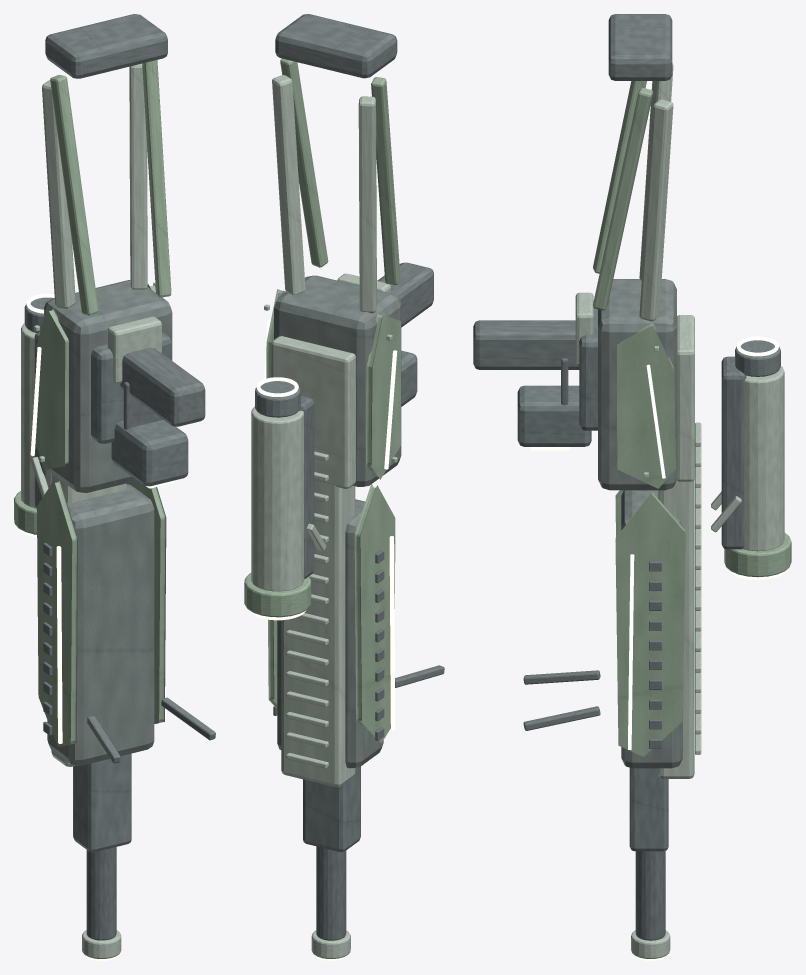
The model's file is aether-l7-glacier.glb.
3 views of the same model, side by side, from view 1: azimuth 30°, elevation 25°; view 2: azimuth 150°, elevation 25°; view 3: azimuth 270°, elevation 25° (orthographic).
Visible parts, largest first — view 1: L7 / long matte handguard, 01 / central monocoque, L7 / split shell side -1, L7 / fixed stock cushion, L7 / tip assembly, 06 / sculpted receiver cheek-1, 04 / pistol grip, L7 / hollow stock diagonal -1, L7 / lower energy capsule, L7 / hollow stock outer rail 1, L7 / hollow stock outer rail -1, L7 / hollow stock diagonal 1 (+15 smaller); view 2: L7 / elongated chassis spine, L7 / long illuminated optic, 01 / central monocoque, L7 / split shell side -1, 02 / receiver crown, L7 / fixed stock cushion, L7 / hollow stock outer rail 1, 06 / sculpted receiver cheek-1, L7 / long matte handguard, L7 / hollow stock outer rail -1, L7 / tip assembly, L7 / hollow stock diagonal -1 (+12 smaller); view 3: L7 / split shell side 1, 06 / sculpted receiver cheek1, 01 / central monocoque, L7 / long illuminated optic, 04 / pistol grip, L7 / hollow stock outer rail 1, L7 / elongated chassis spine, L7 / fixed stock cushion, L7 / precision optics backbone, L7 / lower energy capsule, L7 / hollow stock diagonal 1, L7 / tip assembly (+13 smaller).
Part boxes in pixels (x1,y1,x2,y2): L7 / long matte handguard: (47,484,154,765); 01 / central monocoque: (44,280,172,492); L7 / split shell side -1: (37,479,77,746); L7 / fixed stock cushion: (45,14,167,78); L7 / tip assembly: (73,753,131,852); 06 / sculpted receiver cheek-1: (35,307,68,470); 04 / pistol grip: (120,347,205,426); L7 / hollow stock diagonal -1: (50,75,98,315); L7 / lower energy capsule: (111,420,188,486); L7 / hollow stock outer rail 1: (129,63,147,289); L7 / hollow stock outer rail -1: (42,80,75,308); L7 / hollow stock diagonal 1: (142,60,171,297); L7 / elongated chassis spine: (281,480,355,787); L7 / long illuminated optic: (251,406,304,591); 01 / central monocoque: (274,275,401,486); L7 / split shell side -1: (354,484,395,743); 02 / receiver crown: (271,336,355,488); L7 / fixed stock cushion: (275,14,397,78); L7 / hollow stock outer rail 1: (272,75,305,294); 06 / sculpted receiver cheek-1: (366,313,400,479); L7 / long matte handguard: (277,499,383,768); L7 / hollow stock outer rail -1: (358,96,376,313); L7 / tip assembly: (303,766,360,851); L7 / hollow stock diagonal -1: (371,77,400,284); L7 / split shell side 1: (615,492,685,756); 06 / sculpted receiver cheek1: (617,322,675,488); 01 / central monocoque: (598,279,676,490); L7 / long illuminated optic: (743,366,784,551); 04 / pistol grip: (473,320,579,369); L7 / hollow stock outer rail 1: (639,99,673,321); L7 / elongated chassis spine: (658,479,694,778); L7 / fixed stock cushion: (608,14,672,80); L7 / precision optics backbone: (721,356,746,549); L7 / lower energy capsule: (517,385,591,446); L7 / hollow stock diagonal 1: (593,88,652,310); L7 / tip assembly: (629,768,668,851).
Bounding box in the file's own units: 0.5125 × 3.49 × 1.09.
Materials: 7 (7 with a texture image).
